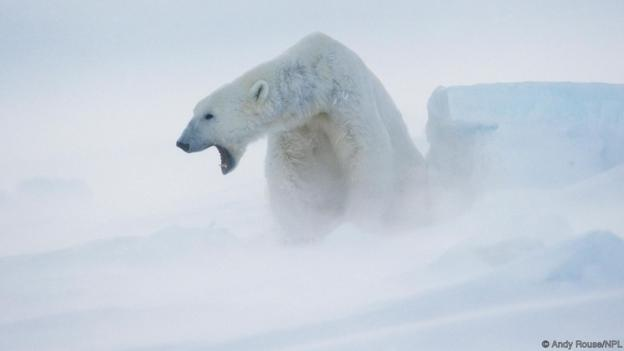Polar Bear: (171, 35, 414, 253)
